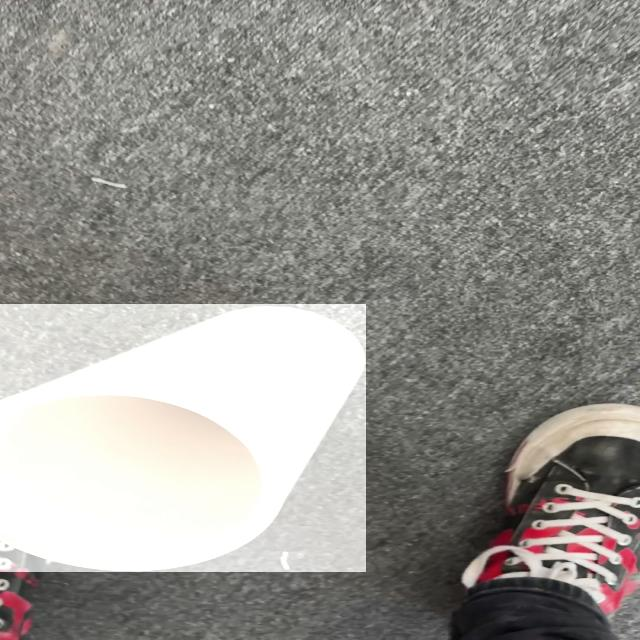Coral: (1, 304, 367, 572)
